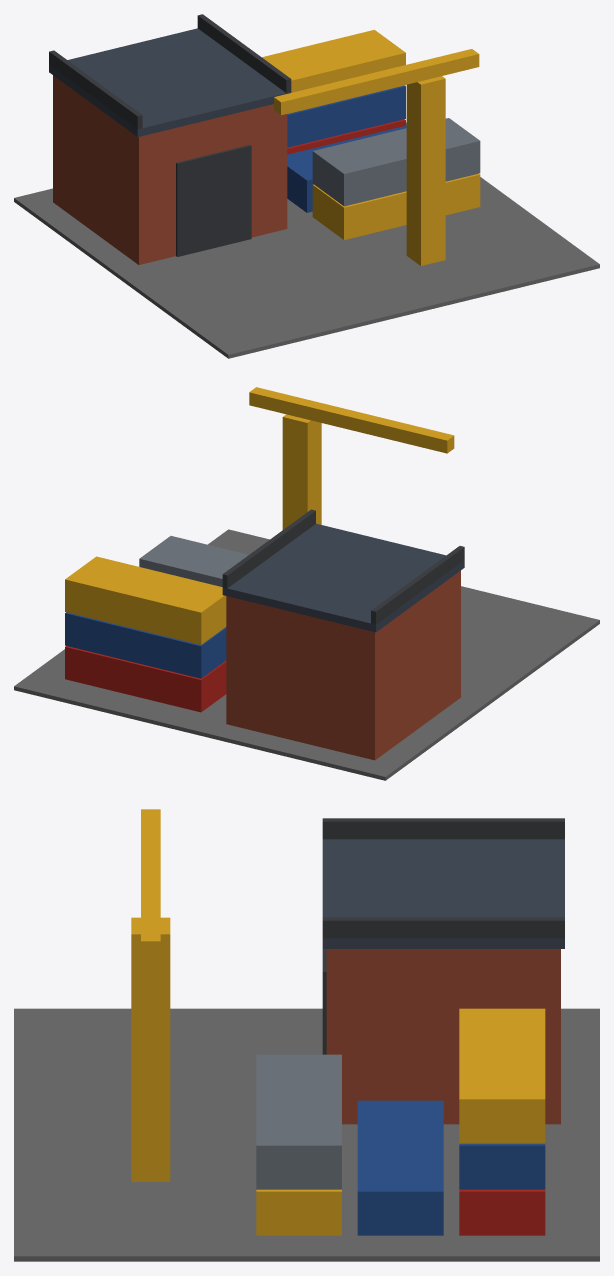
File: bld_special_logistics_depot_a05.glb
3 renders of one model, top to bottom at view 1: azimuth 30°, elevation 25°; view 2: azimuth 150°, elevation 25°; view 3: azimuth 270°, elevation 25°, orthographic. The views are drawn at different scales.
Visible parts, largest first — view 1: body, crane; view 2: body, crane; view 3: body, crane.
Part boxes in pixels (bbox=[...]): body: bbox=[14, 14, 599, 358]; crane: bbox=[274, 49, 479, 265]; body: bbox=[14, 509, 599, 780]; crane: bbox=[249, 387, 454, 529]; body: bbox=[14, 818, 599, 1261]; crane: bbox=[131, 809, 170, 1181].
Size of what is drawn, in the model's own units: 15 by 7.65 by 15.
